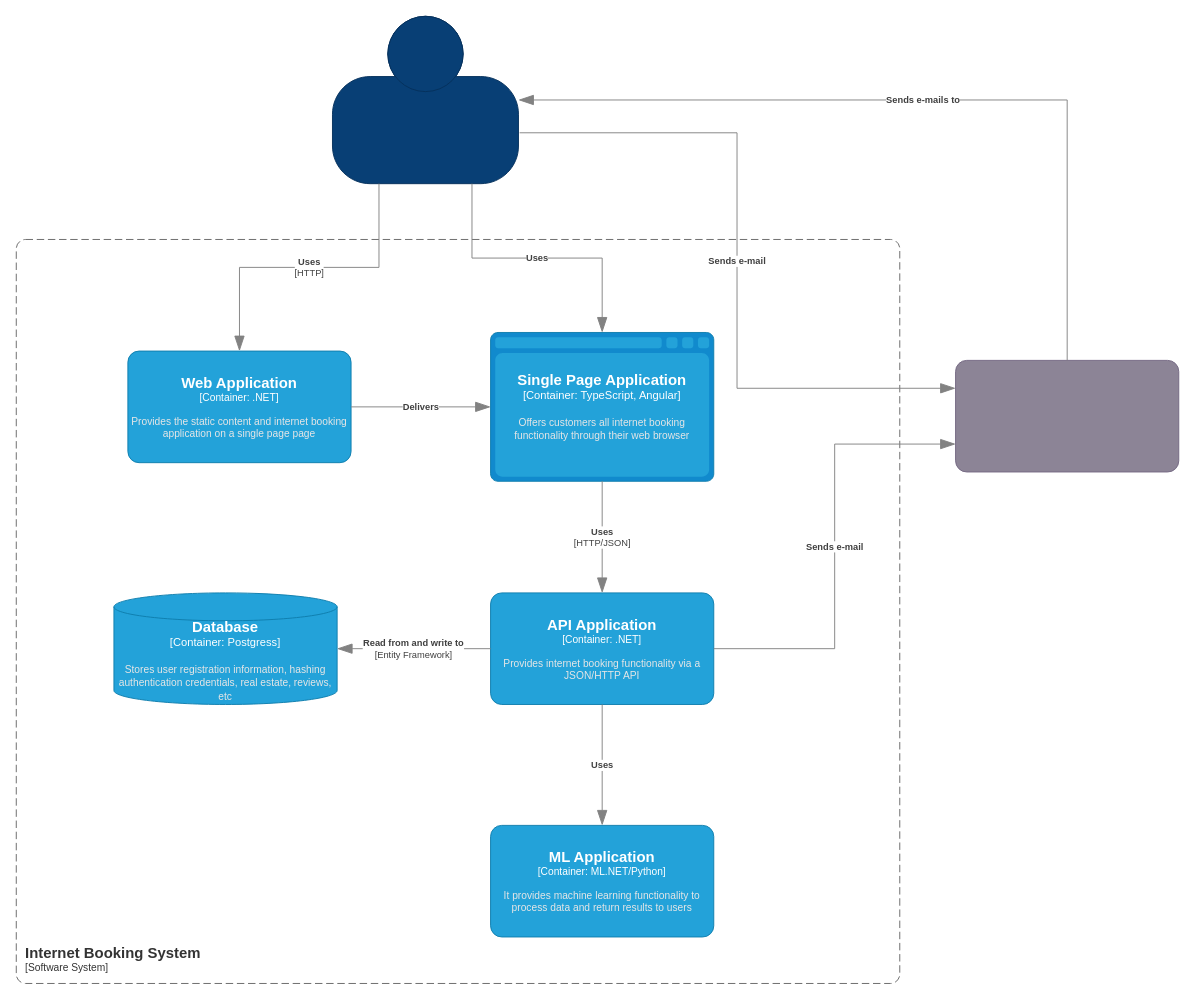
The diagram is 1195 pixels wide and 1000 high, and some of its shapes have lost their labels. Each missing label, with the centre of its shape:
Buyer/Seller [Person] A buyer or seller with an account in the application: the point at 425,99
E-mail system [Software System] The internal Microsoft Exchange e-mail system: the point at 1067,415
